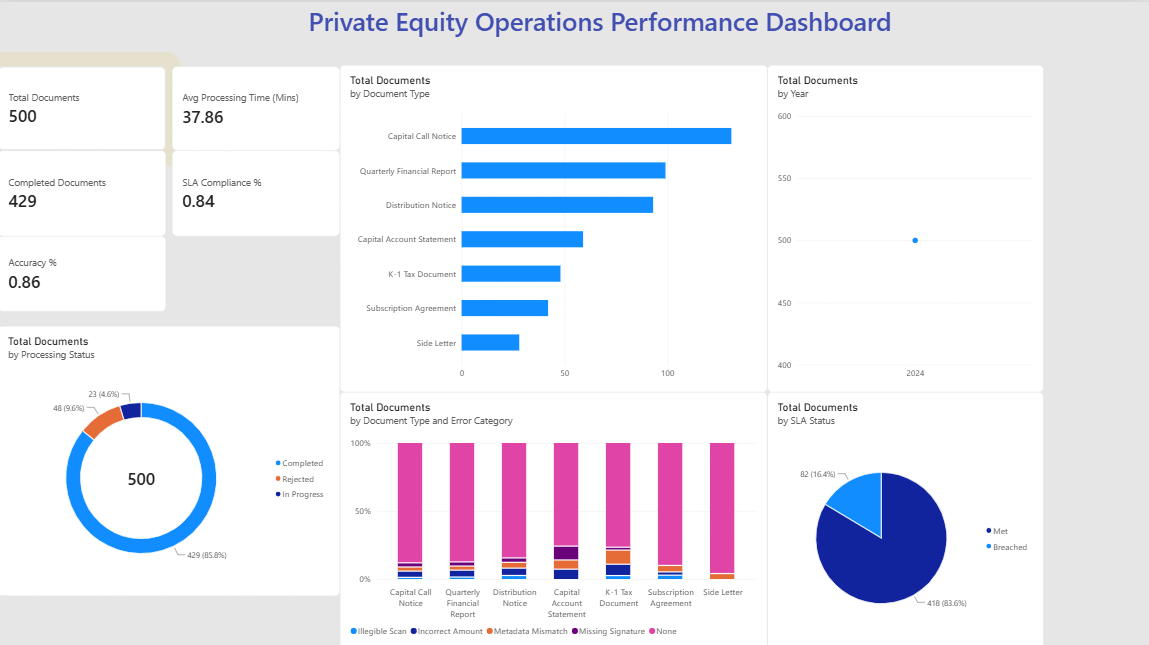

Layout of this report page (visuals, bound fields, positions):
{"tool":"powerbi","page":{"name":"Page 1","canvas":[1920,1080],"ordinal":0},"visuals":[{"type":"textbox","box":[10,0,280,280],"z":0},{"type":"textbox","box":[600.9,0,637.8,104.9],"z":1000},{"type":"cardVisual","fields":{"Data":["document_operations.Total Documents"]},"box":[0,106.7,280,140],"z":2000},{"type":"cardVisual","fields":{"Data":["document_operations.Completed Documents"]},"box":[0,246.7,280,143.3],"z":3000},{"type":"cardVisual","fields":{"Data":["document_operations.Accuracy %"]},"box":[0,390,280,126.7],"z":4000},{"type":"cardVisual","fields":{"Data":["document_operations.Avg Processing Time (Mins)"]},"box":[290,106.7,280,140],"z":5000},{"type":"cardVisual","fields":{"Data":["document_operations.SLA Compliance %"]},"box":[290,246.7,280,143.3],"z":6000},{"type":"clusteredBarChart","fields":{"Category":["document_operations.Document Type"],"Y":["document_operations.Total Documents"]},"box":[570,105,712.5,545],"z":7000},{"type":"lineChart","fields":{"Category":["document_operations.Processing Date.Variation.Date Hierarchy.Year","document_operations.Processing Date.Variation.Date Hierarchy.Quarter","document_operations.Processing Date.Variation.Date Hierarchy.Month","document_operations.Processing Date.Variation.Date Hierarchy.Day"],"Y":["document_operations.Total Documents"]},"box":[1282.5,105,460,545],"z":8000},{"type":"donutChart","fields":{"Category":["document_operations.Processing Status"],"Y":["document_operations.Total Documents"]},"box":[0,540,570,450],"z":9000},{"type":"hundredPercentStackedColumnChart","fields":{"Category":["document_operations.Document Type"],"Series":["document_operations.Error Category"],"Y":["document_operations.Total Documents"]},"box":[570,650,712,430],"z":10000},{"type":"pieChart","fields":{"Category":["document_operations.SLA Status"],"Y":["document_operations.Total Documents"]},"box":[1283,650,460,430],"z":10001}]}

Visuals, with their boxes in screenshot pixels (x1, y1, x2, y2), scaled from the page's 1920x1080 canvas onto the 1149x645 screenshot:
textbox: (left=6, top=0, right=174, bottom=167)
textbox: (left=360, top=0, right=741, bottom=63)
cardVisual - document_operations.Total Documents: (left=0, top=64, right=168, bottom=147)
cardVisual - document_operations.Completed Documents: (left=0, top=147, right=168, bottom=233)
cardVisual - document_operations.Accuracy %: (left=0, top=233, right=168, bottom=309)
cardVisual - document_operations.Avg Processing Time (Mins): (left=174, top=64, right=341, bottom=147)
cardVisual - document_operations.SLA Compliance %: (left=174, top=147, right=341, bottom=233)
clusteredBarChart - document_operations.Document Type x document_operations.Total Documents: (left=341, top=63, right=767, bottom=388)
lineChart - document_operations.Processing Date.Variation.Date Hierarchy.Year x document_operations.Processing Date.Variation.Date Hierarchy.Quarter: (left=767, top=63, right=1043, bottom=388)
donutChart - document_operations.Processing Status x document_operations.Total Documents: (left=0, top=322, right=341, bottom=591)
hundredPercentStackedColumnChart - document_operations.Document Type x document_operations.Error Category: (left=341, top=388, right=767, bottom=644)
pieChart - document_operations.SLA Status x document_operations.Total Documents: (left=768, top=388, right=1043, bottom=644)
